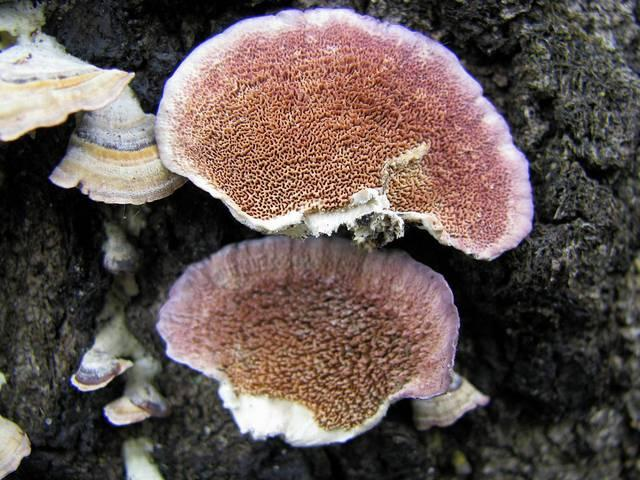poisonous_mushroom: (152, 6, 535, 261), (154, 233, 487, 448)
